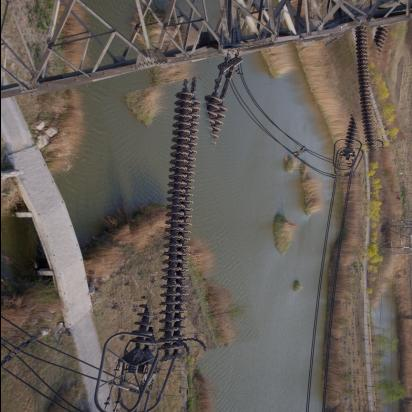insulator: (115, 81, 247, 359), (333, 25, 401, 153)
